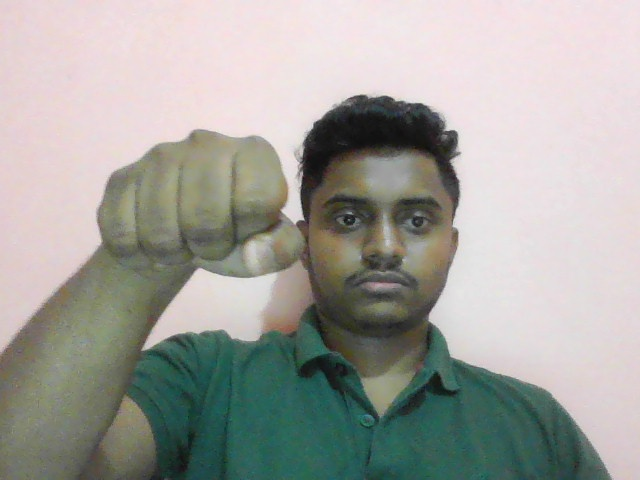Yes: (92, 127, 305, 280)
